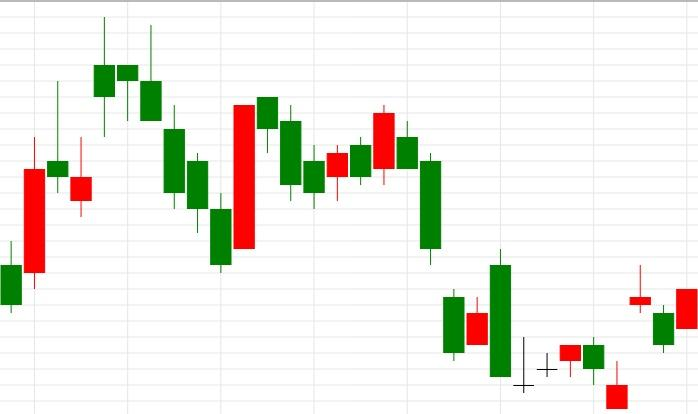bearish_engulfing_fall: (512, 337, 605, 393)
hanging_man_fall: (70, 17, 139, 216)
three_black_crows_fall: (70, 18, 186, 215)
